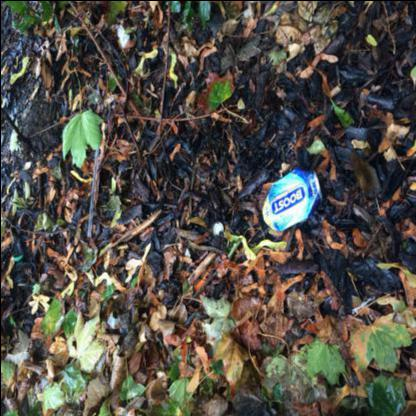Bottle: (211, 220, 223, 236)
Can: (262, 168, 322, 231)
Straw: (86, 144, 100, 237)
